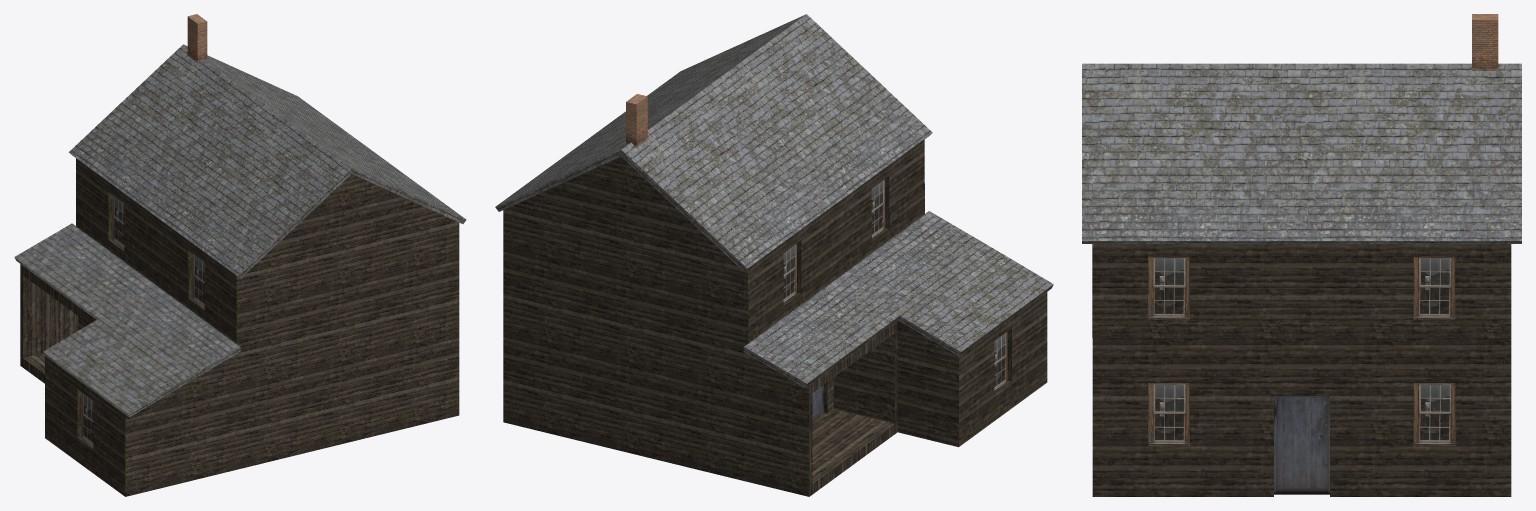
Rendered from House1.fbx.
3 views of the same model, side by side, from view 1: azimuth 30°, elevation 25°; view 2: azimuth 150°, elevation 25°; view 3: azimuth 270°, elevation 25° (orthographic). The views are drawn at different scales.
Parts seen in each view (by area): view 1: House1; view 2: House1; view 3: House1.
Boxes of the visible parts, x1,y1,x2,y2 form: House1: [14, 14, 466, 496]; House1: [495, 14, 1053, 496]; House1: [1082, 14, 1521, 496].
Size of the model in its own units: 915 by 808 by 788.
Materials: 5 (5 with a texture image).
